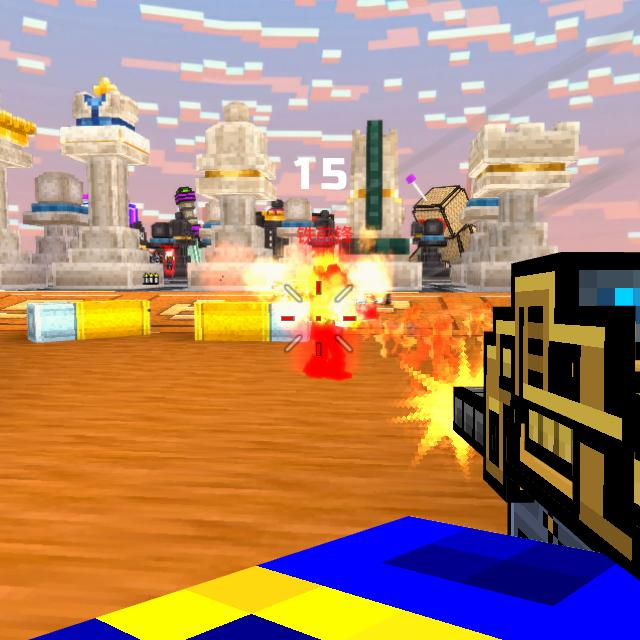Enemy: (303, 264, 377, 380)
